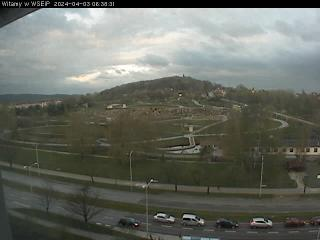car: (181, 214, 206, 228), (152, 212, 175, 224), (284, 216, 307, 228), (119, 216, 141, 228), (215, 218, 239, 229), (248, 217, 272, 228), (310, 216, 320, 226)
